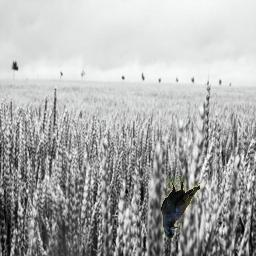Crow: (162, 176, 201, 239)
